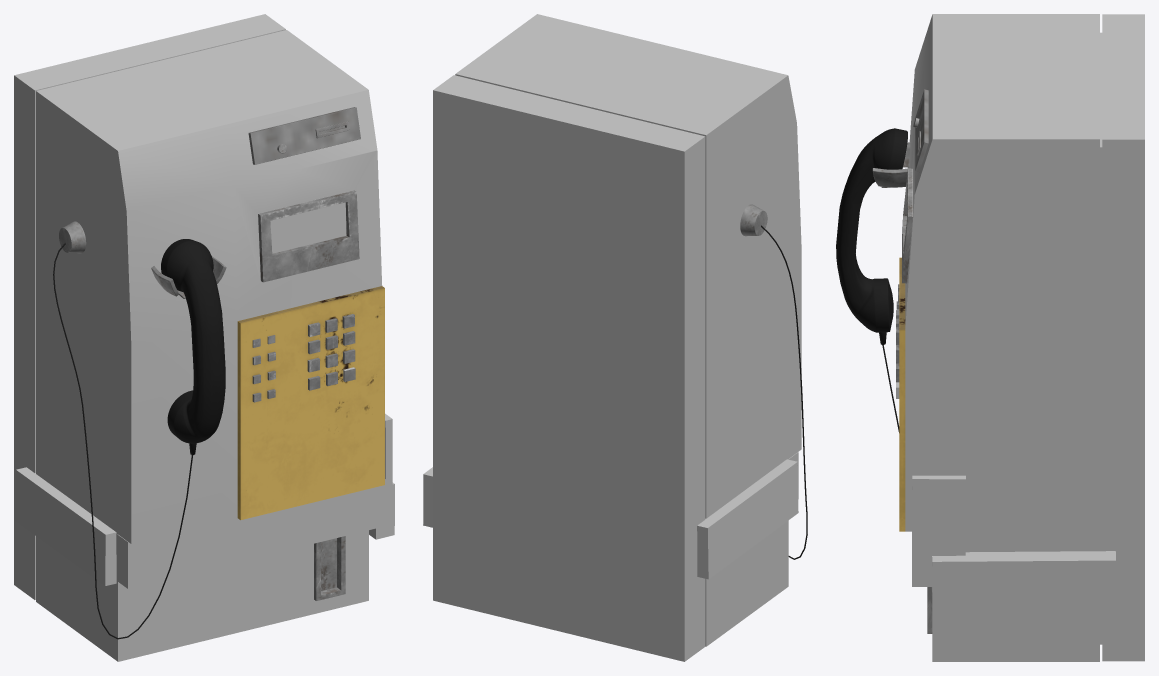
The picture shows the model from 3 angles, left to right: view 1: azimuth 30°, elevation 25°; view 2: azimuth 150°, elevation 25°; view 3: azimuth 270°, elevation 25°; orthographic projection. The views are drawn at different scales.
Parts seen in each view (by area): view 1: Public_Phone.003, Phone.002; view 2: Public_Phone.003, Phone.002; view 3: Public_Phone.003, Phone.002.
Boxes of the visible parts, <box> form: Public_Phone.003: <box>14,14,394,661</box>; Phone.002: <box>53,239,225,639</box>; Public_Phone.003: <box>423,14,801,661</box>; Phone.002: <box>761,225,807,559</box>; Public_Phone.003: <box>872,14,1144,661</box>; Phone.002: <box>836,128,907,432</box>.
Bounding box in the file's own units: 0.5078 × 0.8046 × 0.4309.
